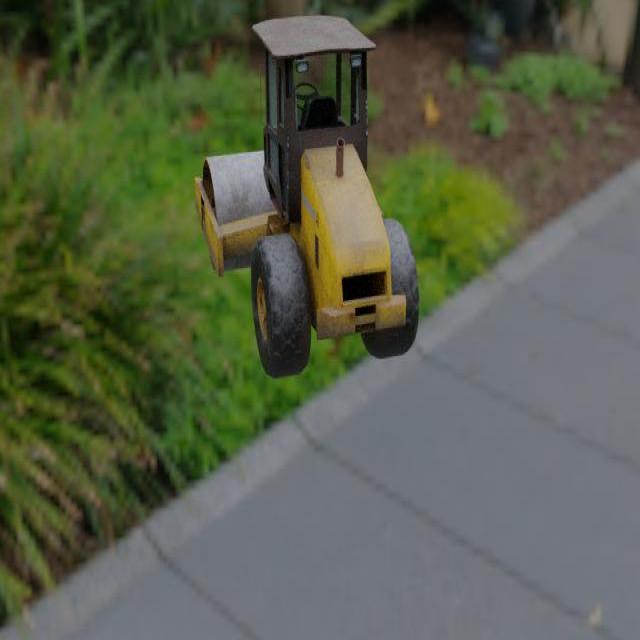Roller: (194, 14, 419, 378)
